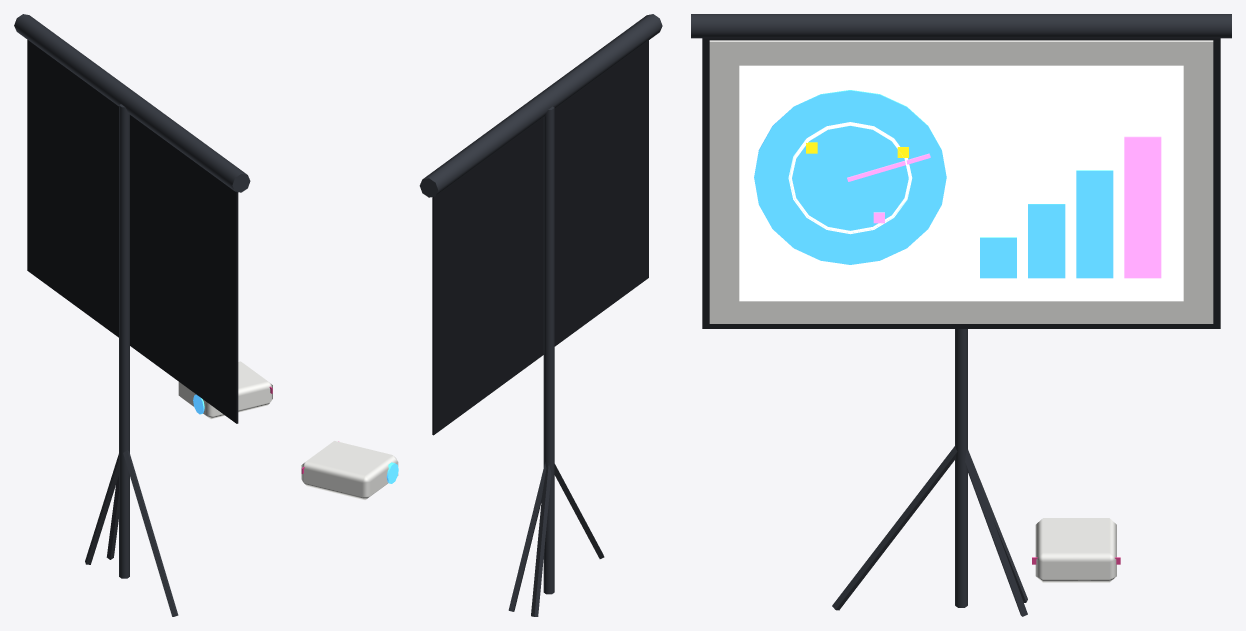
File: station_special_ausstattung_1_3.glb
3 views of the same model, side by side, from view 1: azimuth 30°, elevation 25°; view 2: azimuth 150°, elevation 25°; view 3: azimuth 270°, elevation 25° (orthographic). The views are drawn at different scales.
Parts seen in each view (by area): view 1: station_special_ausstattung_1_3; view 2: station_special_ausstattung_1_3; view 3: station_special_ausstattung_1_3.
Boxes of the visible parts, bbox=[...] form: station_special_ausstattung_1_3: bbox=[14, 14, 272, 616]; station_special_ausstattung_1_3: bbox=[301, 14, 662, 616]; station_special_ausstattung_1_3: bbox=[691, 14, 1231, 616].
Size of the model in its own units: 0.7539 by 1.79 by 1.46.
